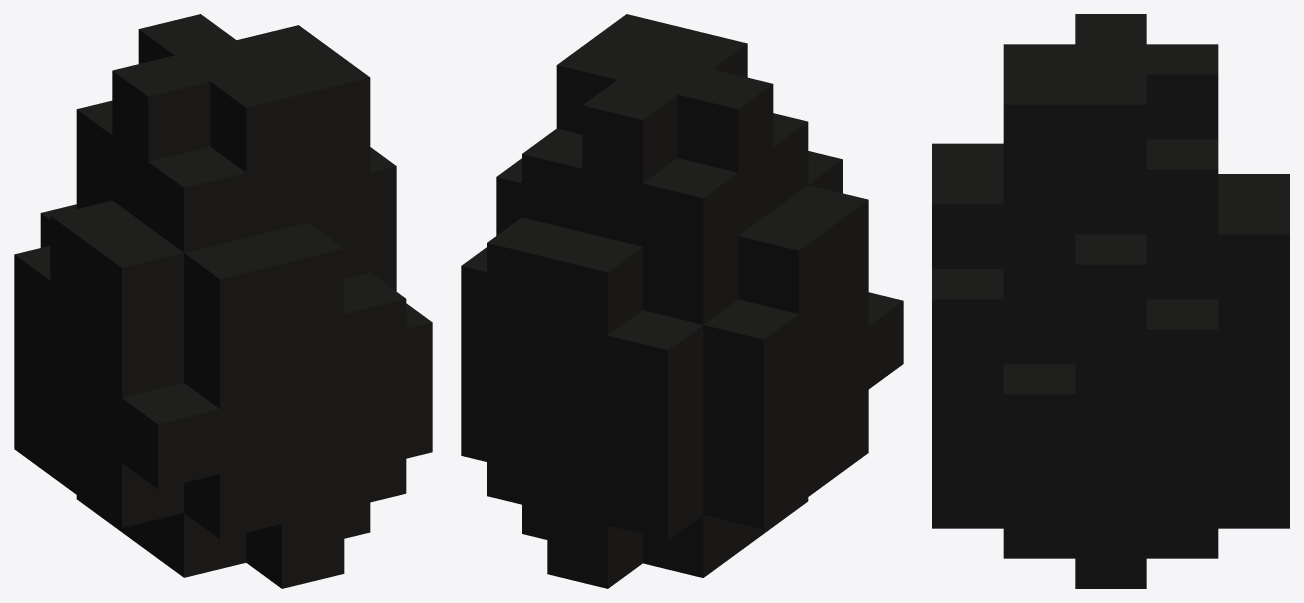
The model's file is bat-2.obj.
The picture shows the model from 3 angles, left to right: view 1: azimuth 30°, elevation 25°; view 2: azimuth 150°, elevation 25°; view 3: azimuth 270°, elevation 25°; orthographic projection. The views are drawn at different scales.
Size of the model in its own units: 0.5 by 0.7 by 0.5.
Materials: 1 (1 with a texture image).
